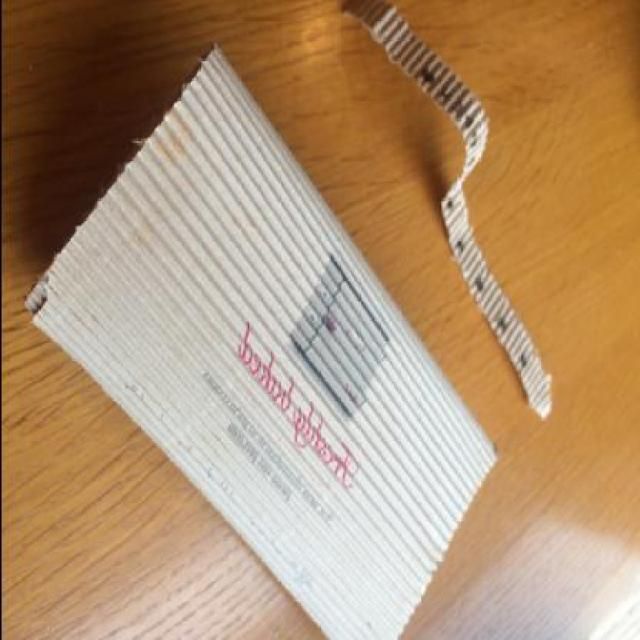cardboard: (22, 41, 506, 638), (335, 1, 557, 419)
